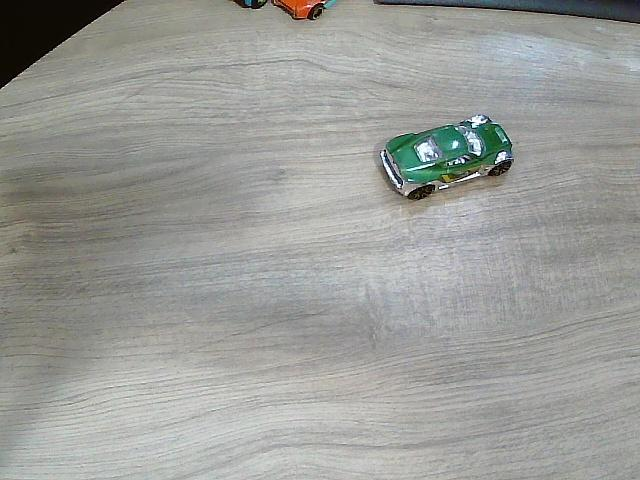Carro: (379, 116, 513, 201)
